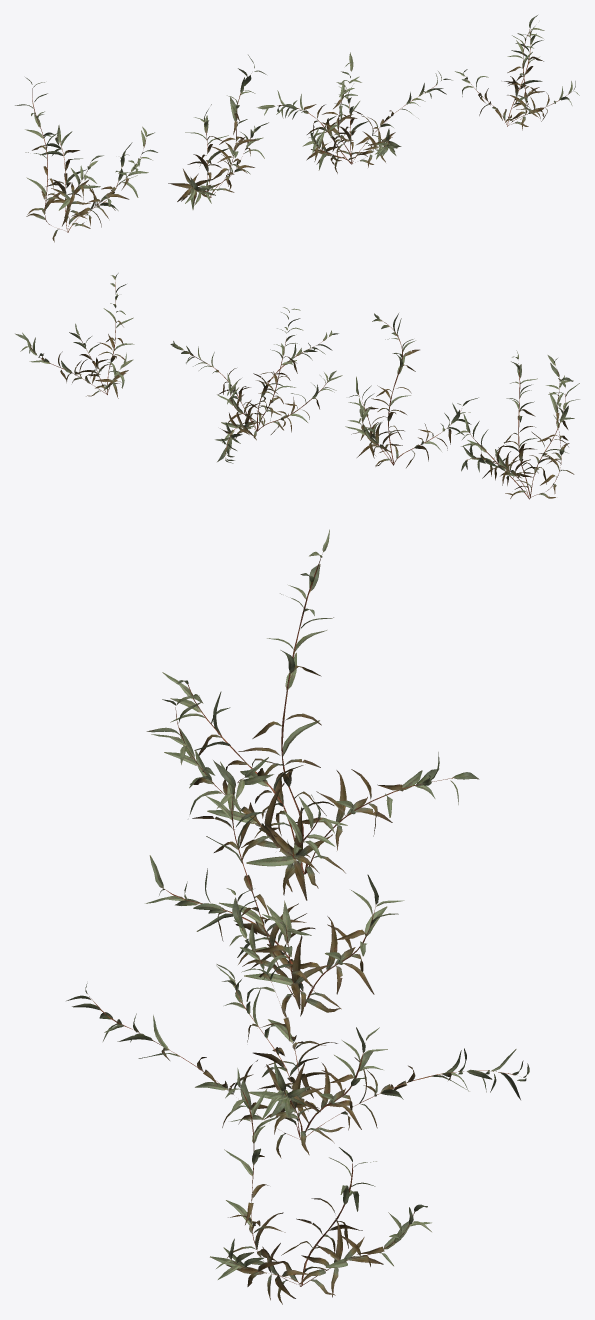
Rendered from shrub_02.glb.
3 renders of one model, top to bottom at view 1: azimuth 30°, elevation 25°; view 2: azimuth 150°, elevation 25°; view 3: azimuth 270°, elevation 25°, orthographic. The views are drawn at different scales.
Visible parts, largest first — view 1: shrub_02_a, shrub_02_c, shrub_02_b, shrub_02_d; view 2: shrub_02_a, shrub_02_c, shrub_02_b, shrub_02_d; view 3: shrub_02_a, shrub_02_c, shrub_02_b, shrub_02_d.
Boxes of the visible parts, bbox=[...] form: shrub_02_a: bbox=[15, 77, 157, 242]; shrub_02_c: bbox=[257, 52, 452, 173]; shrub_02_b: bbox=[168, 55, 268, 209]; shrub_02_d: bbox=[455, 15, 579, 130]; shrub_02_a: bbox=[455, 350, 579, 499]; shrub_02_c: bbox=[170, 307, 342, 463]; shrub_02_b: bbox=[345, 313, 478, 467]; shrub_02_d: bbox=[15, 273, 134, 398]; shrub_02_a: bbox=[146, 529, 479, 900]; shrub_02_c: bbox=[66, 888, 529, 1158]; shrub_02_b: bbox=[145, 757, 404, 1017]; shrub_02_d: bbox=[210, 1068, 431, 1304].
Bounding box in the file's own units: 6.05 × 1.7 × 2.29.
1 material, 1 textured.
